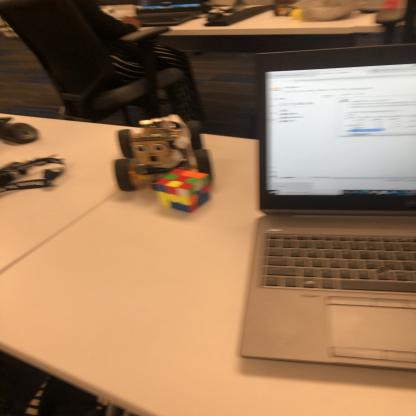UnsolvedCube: (156, 164, 213, 218)
